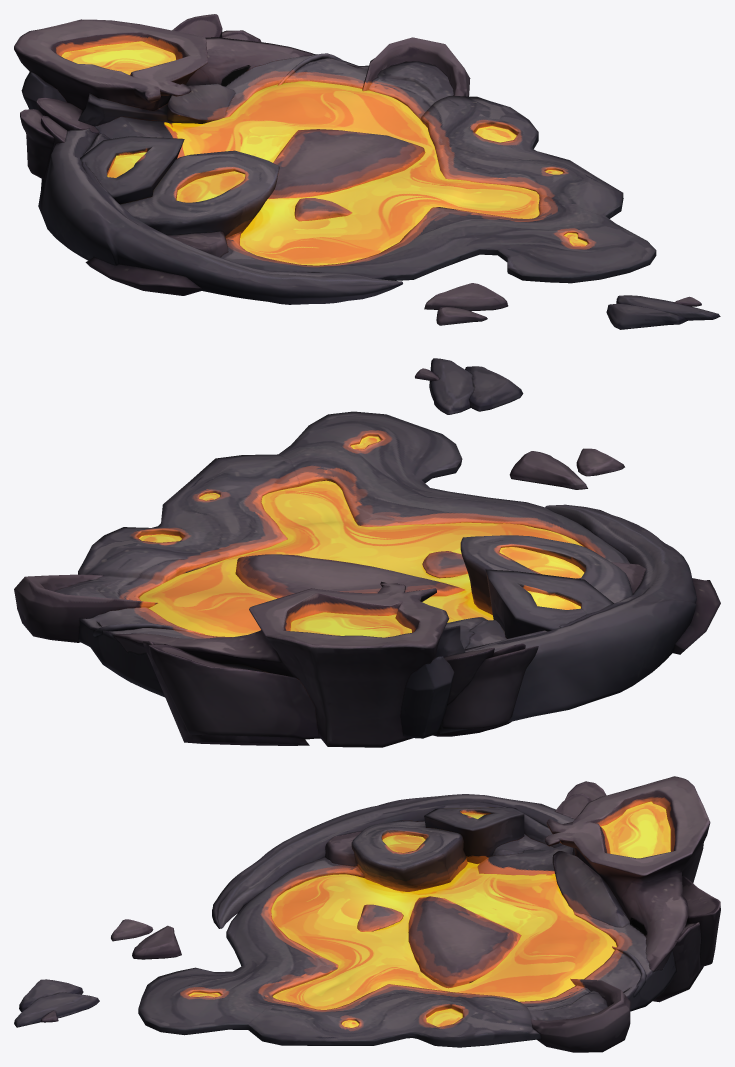
Rendered from firepit_warrior.glb.
3 views of the same model, one above another, from view 1: azimuth 30°, elevation 25°; view 2: azimuth 150°, elevation 25°; view 3: azimuth 270°, elevation 25° (orthographic). The views are drawn at different scales.
Size of the model in its own units: 6.39 by 1.95 by 8.86.
1 material, 1 textured.
